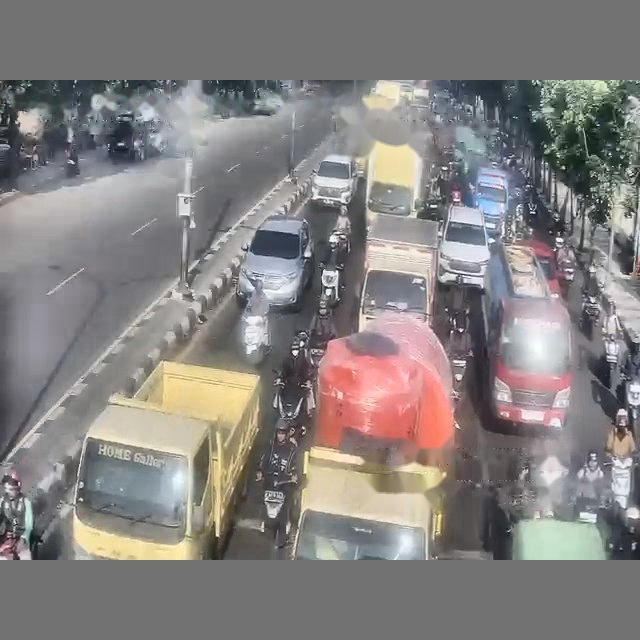Mobil: (236, 215, 314, 311), (437, 205, 493, 287), (311, 154, 358, 207), (523, 239, 560, 296), (107, 113, 147, 161), (252, 90, 282, 115)
Motor: (261, 475, 296, 548), (240, 308, 270, 366), (580, 294, 600, 339), (604, 334, 619, 389), (625, 373, 639, 430), (321, 264, 340, 306), (558, 261, 574, 298), (0, 533, 20, 559)
Truk: (72, 361, 260, 559), (293, 446, 445, 559), (481, 243, 572, 430), (358, 216, 437, 330), (365, 141, 424, 226)
